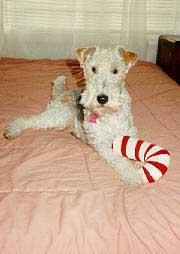wire-haired_fox_terrier: (0, 43, 174, 190)
